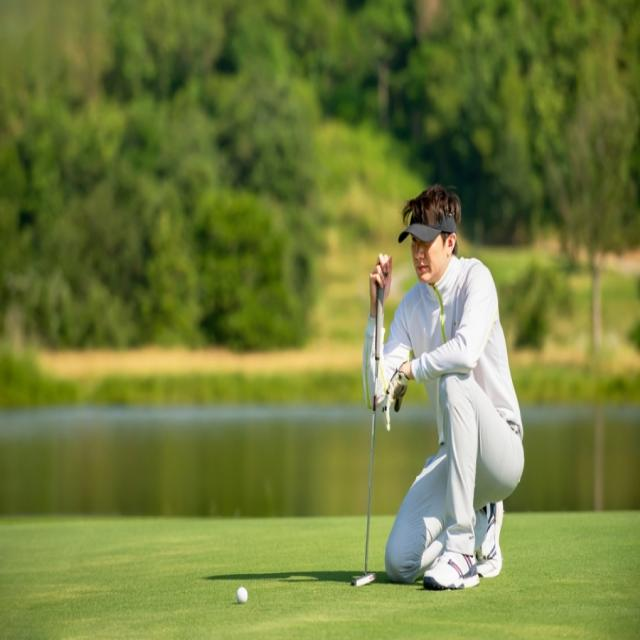sit: (353, 186, 532, 593)
